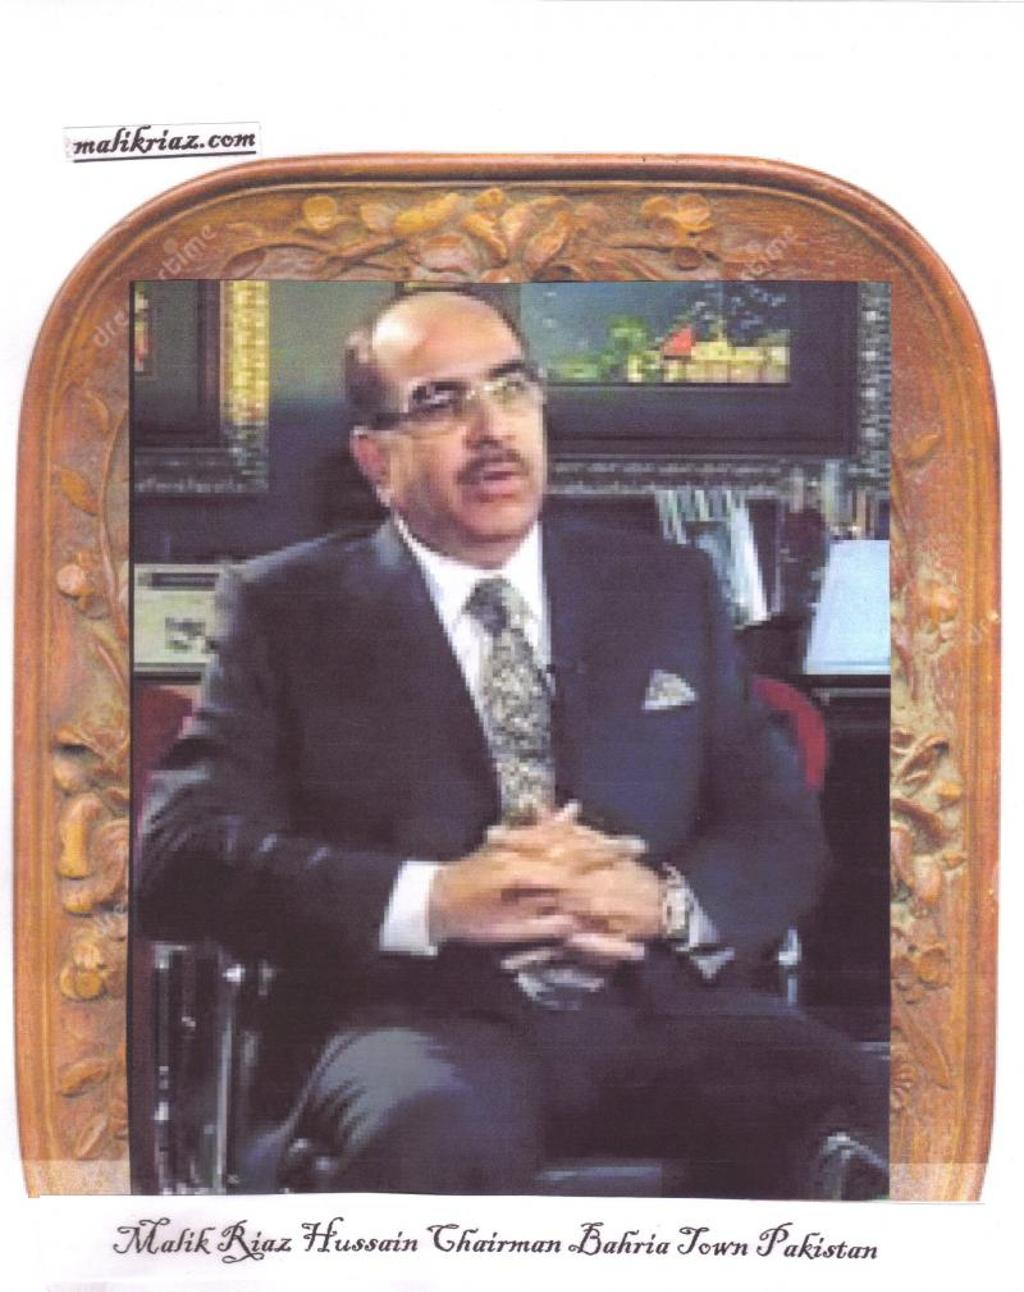face: (401, 298, 552, 545)
